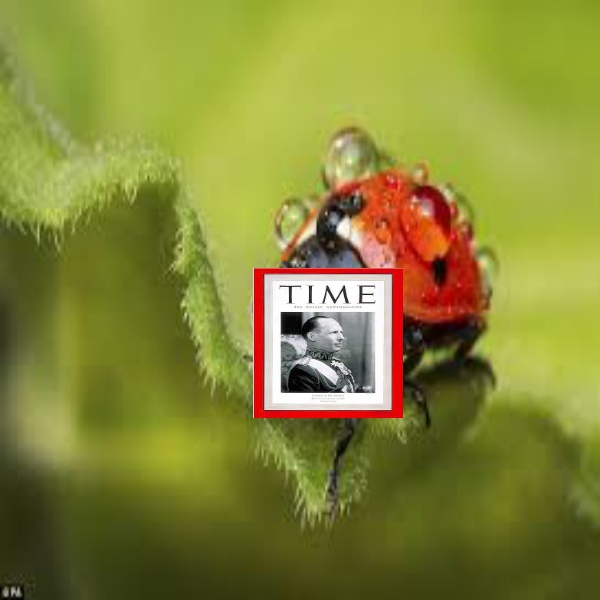time_cover: (250, 255, 403, 417)
